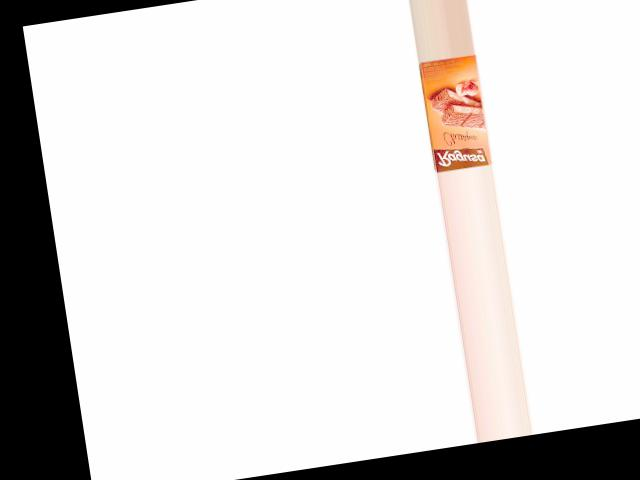chocolate: (415, 52, 498, 172)
